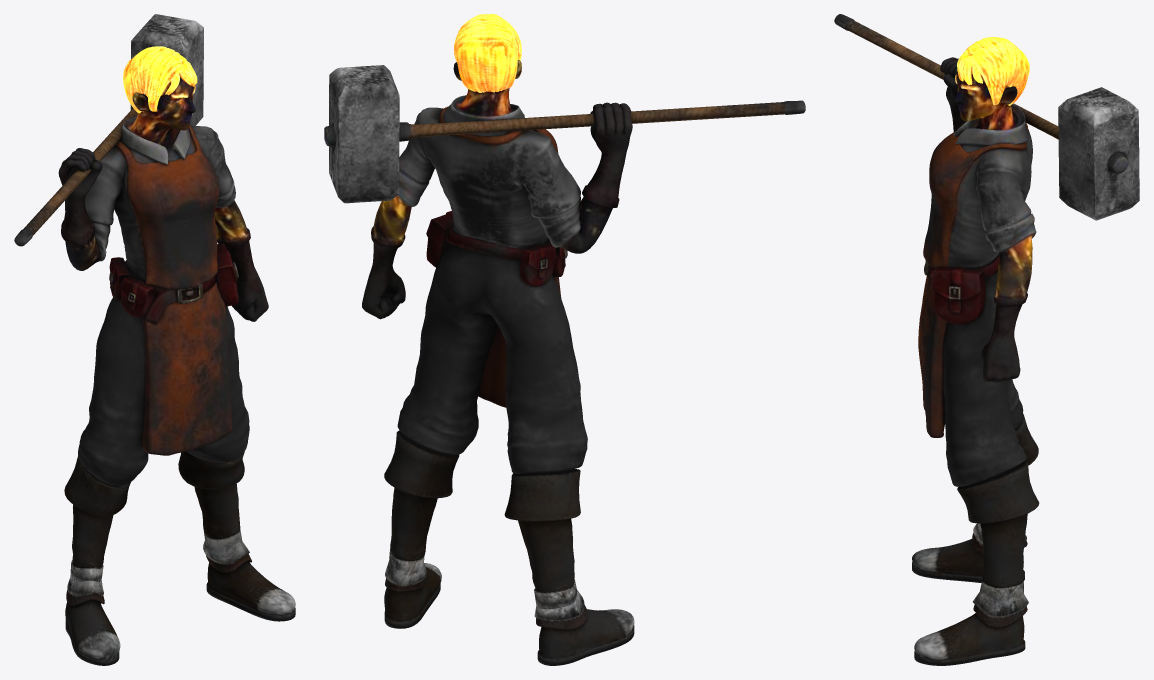
File: MZ4250 - Human Female Blacksmith_alt3.glb
3 renders of one model, left to right at view 1: azimuth 30°, elevation 25°; view 2: azimuth 150°, elevation 25°; view 3: azimuth 270°, elevation 25°, orthographic. The views are drawn at different scales.
Visible parts, largest first — view 1: Human Female Blacksmith.001; view 2: Human Female Blacksmith.001; view 3: Human Female Blacksmith.001.
Boxes of the visible parts, <box> form: Human Female Blacksmith.001: <box>14,14,295,665</box>; Human Female Blacksmith.001: <box>324,14,805,665</box>; Human Female Blacksmith.001: <box>834,14,1139,665</box>.
Size of the model in its own units: 20.97 by 34.78 by 16.81.
1 material, 1 textured.
